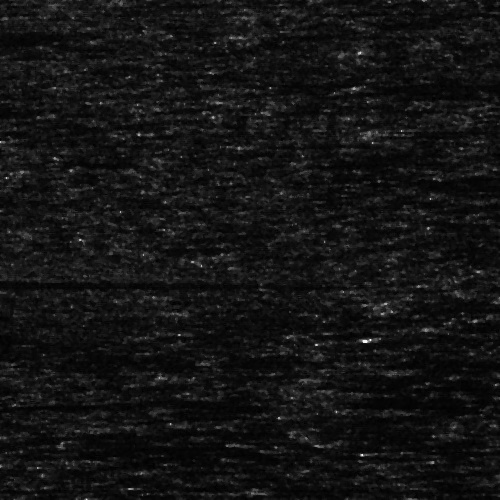object: (347, 126, 430, 137), (222, 484, 305, 493), (405, 323, 468, 330), (216, 142, 279, 147), (345, 336, 398, 341), (134, 467, 187, 472), (253, 32, 284, 35)
shadow: (0, 277, 237, 286), (264, 484, 500, 493), (389, 126, 466, 137), (161, 467, 320, 472), (437, 323, 500, 330), (269, 32, 416, 35), (372, 336, 450, 341), (248, 142, 322, 147), (0, 485, 31, 490)
